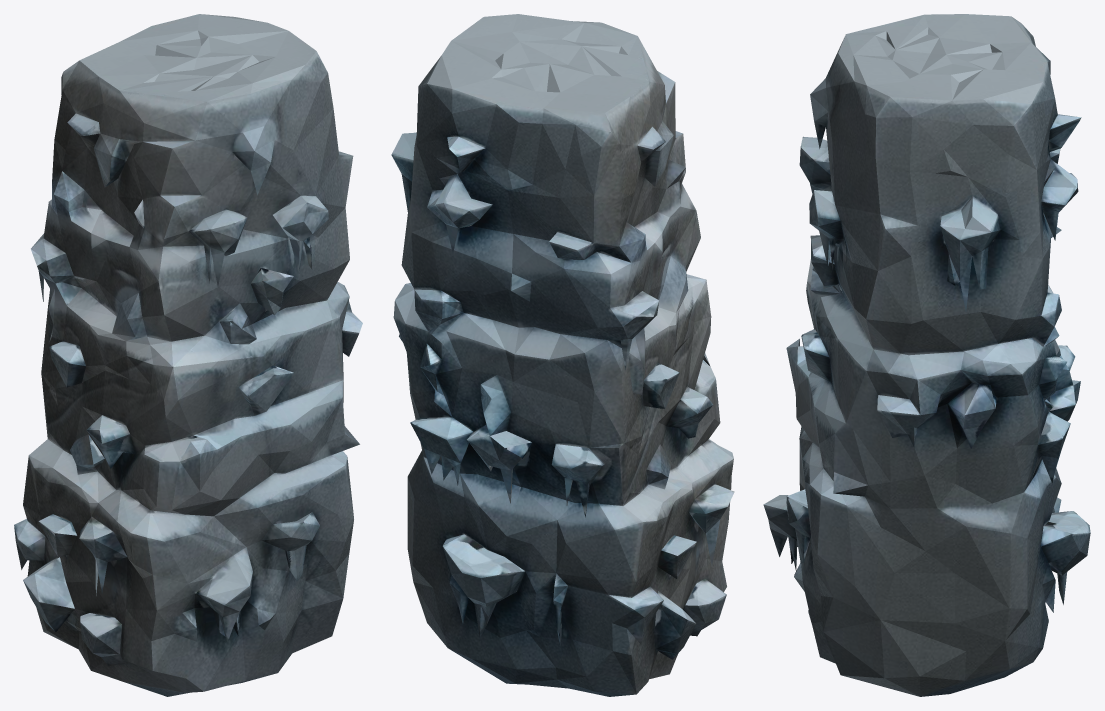
Rendered from alpine_wall.glb.
The picture shows the model from 3 angles, left to right: view 1: azimuth 30°, elevation 25°; view 2: azimuth 150°, elevation 25°; view 3: azimuth 270°, elevation 25°; orthographic projection. The views are drawn at different scales.
Visible parts, largest first — view 1: tmp26rdk7xr.ply; view 2: tmp26rdk7xr.ply; view 3: tmp26rdk7xr.ply.
Part boxes in pixels (x1=…): tmp26rdk7xr.ply: x1=14, y1=14, x2=362, y2=696; tmp26rdk7xr.ply: x1=391, y1=14, x2=734, y2=696; tmp26rdk7xr.ply: x1=763, y1=14, x2=1090, y2=696.
Bounding box in the file's own units: 1.03 × 1.99 × 0.9489.
Materials: 1 (1 with a texture image).
